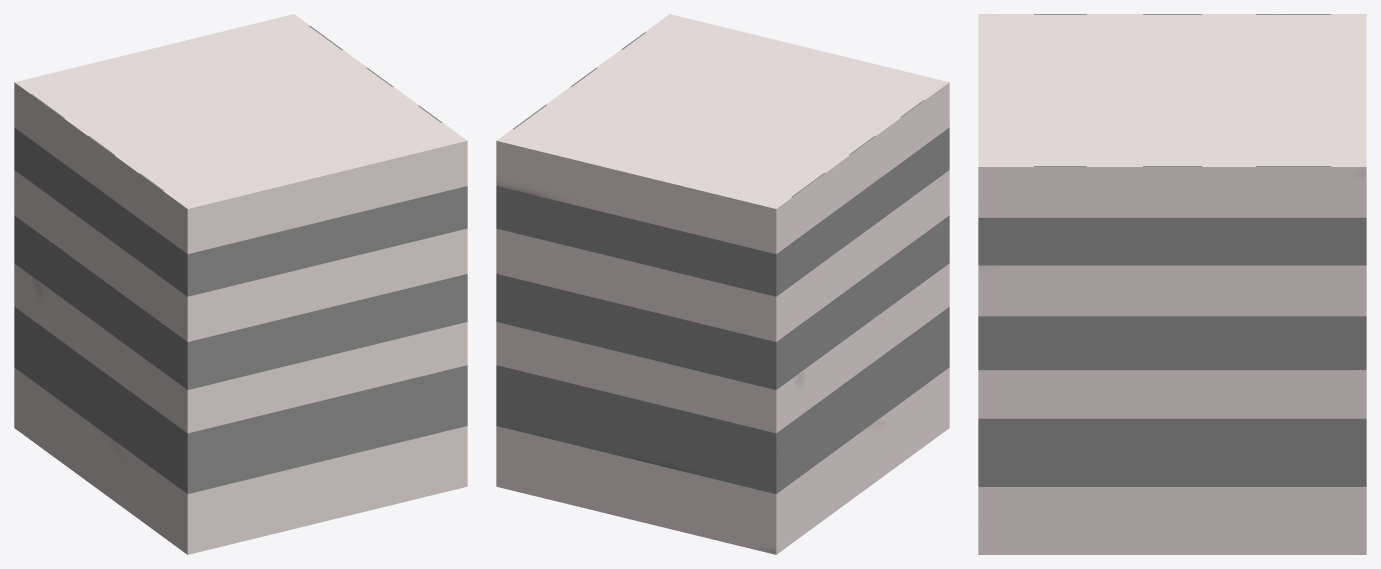
File: House_2.fbx
The picture shows the model from 3 angles, left to right: view 1: azimuth 30°, elevation 25°; view 2: azimuth 150°, elevation 25°; view 3: azimuth 270°, elevation 25°; orthographic projection. The views are drawn at different scales.
Visible parts, largest first — view 1: Cube; view 2: Cube; view 3: Cube.
Part boxes in pixels (x1,y1,x2,y2): Cube: (14, 14, 467, 554); Cube: (496, 14, 949, 554); Cube: (978, 14, 1366, 554).
Size of the model in its own units: 870 by 1028 by 933.
